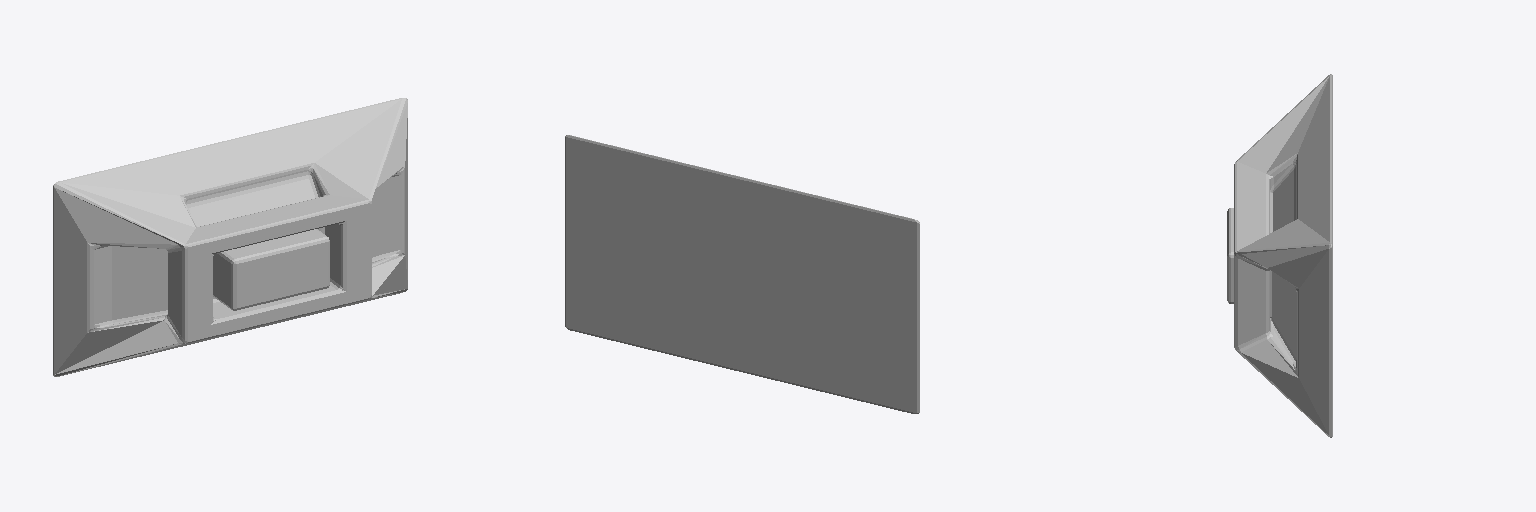
The model's file is support.obj.
3 renders of one model, left to right at view 1: azimuth 30°, elevation 25°; view 2: azimuth 150°, elevation 25°; view 3: azimuth 270°, elevation 25°, orthographic.
Parts seen in each view (by area): view 1: Support; view 2: Support; view 3: Support.
Part boxes in pixels (x1,y1,x2,y2): Support: (53, 98, 407, 376); Support: (565, 135, 919, 413); Support: (1227, 74, 1332, 437).
Size of the model in its own units: 1.87 by 0.9836 by 0.4809.